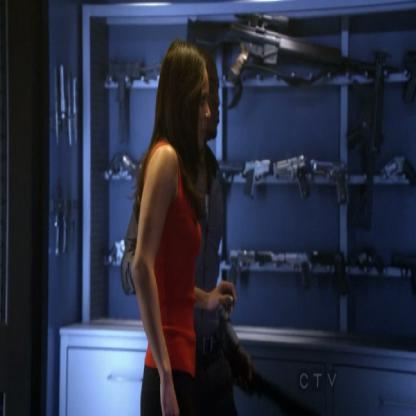Gun: (218, 148, 415, 295), (184, 7, 397, 85), (104, 43, 140, 313), (343, 46, 390, 241)
